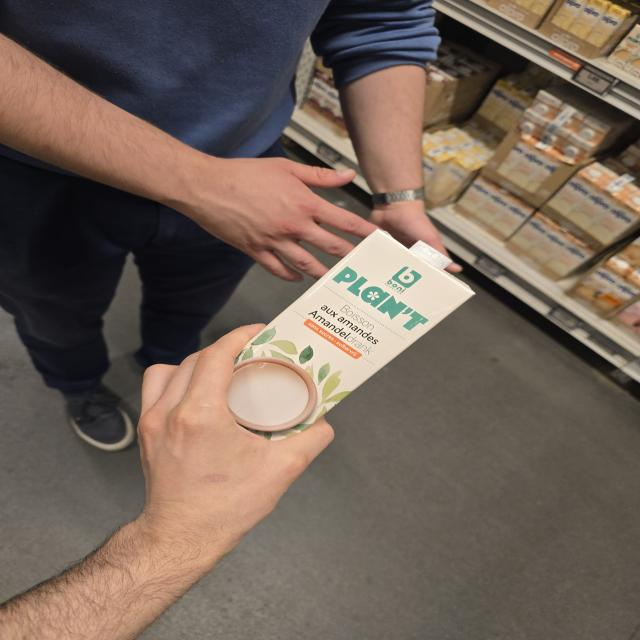Milk: (228, 229, 474, 440)
